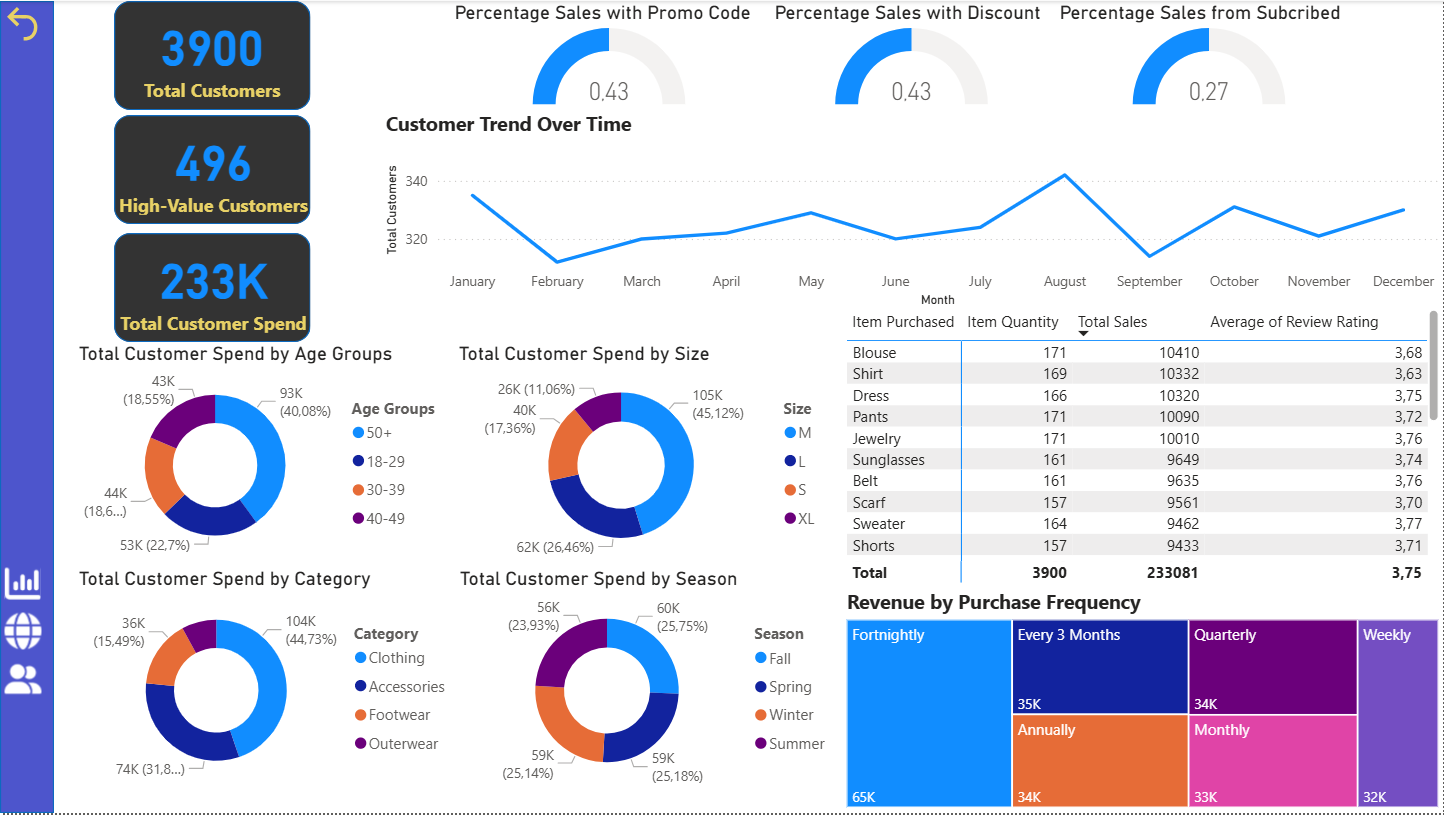

What the dashboard file says about the page in this screenshot:
{"tool":"powerbi","page":{"name":"Customer Detail","canvas":[1280,720],"ordinal":1},"visuals":[{"type":"actionButton","box":[0.2,496.7,47.8,40.1],"z":0,"group":"g1"},{"type":"lineChart","title":"Customer Trend Over Time","fields":{"Y":["Measure Table (DAX).Total Customers"],"Category":["Calendar.Date.Variation.Date Hierarchy.Year","Calendar.Date.Variation.Date Hierarchy.Quarter","Calendar.Date.Variation.Date Hierarchy.Month","Calendar.Date.Variation.Date Hierarchy.Day"]},"box":[336.9,96.7,943.4,179.1],"z":0},{"type":"actionButton","box":[0,538.6,47.9,40.8],"z":1000,"group":"g1"},{"type":"donutChart","fields":{"Category":["shopping_trends.Age Groups"],"Y":["Measure Table (DAX).Total Customer Spend"]},"box":[64.7,302.4,344,199.5],"z":1000},{"type":"donutChart","fields":{"Category":["shopping_trends.Category"],"Y":["Measure Table (DAX).Total Customer Spend"]},"box":[64.7,501.9,344,199.5],"z":2000},{"type":"gauge","fields":{"Y":["Measure Table (DAX).Percentage Sales with Discount"]},"box":[681.9,0,252.7,96.7],"z":3000},{"type":"actionButton","box":[0,581.2,47.9,40.8],"z":3000,"group":"g1"},{"type":"pivotTable","fields":{"Rows":["shopping_trends.Item Purchased"],"Values":["Measure Table (DAX).Quantity_of_items","Measure Table (DAX).Total Sales","Avg(shopping_trends.Review Rating)"]},"box":[745.7,268.7,534.7,251.8],"z":4000},{"type":"gauge","fields":{"Y":["Measure Table (DAX).Percentage Sales with Promo Code"]},"box":[398.1,0,283.7,96.7],"z":5000},{"type":"gauge","fields":{"Y":["Measure Table (DAX).Percentage Sales from Subcribed"]},"box":[934.6,0,274.9,96.7],"z":6000},{"type":"treemap","title":"Revenue by Purchase Frequency","fields":{"Group":["shopping_trends.Frequency of Purchases"],"Values":["Measure Table (DAX).Total Sales"]},"box":[745.7,520.5,534.7,199.5],"z":7000},{"type":"donutChart","fields":{"Y":["Measure Table (DAX).Total Customer Spend"],"Category":["shopping_trends.Size"]},"box":[401.7,302.4,344,199.5],"z":8000},{"type":"donutChart","fields":{"Y":["Measure Table (DAX).Total Customer Spend"],"Category":["shopping_trends.Season"]},"box":[402.2,502.2,343.3,200],"z":9000},{"type":"shape","title":"Menu","box":[0,0,47.9,720],"z":10000},{"type":"shape","box":[101.1,0,174.4,96.7],"z":11000},{"type":"card","fields":{"Values":["Measure Table (DAX).Total Customers"]},"box":[102.2,2.2,172.2,90],"z":12000},{"type":"shape","box":[101.1,101.1,174.4,96.7],"z":13000},{"type":"card","fields":{"Values":["Measure Table (DAX).High-Value Customers"]},"box":[98.9,104.4,180,90],"z":14000},{"type":"shape","box":[101.1,205.6,174.4,96.7],"z":15000},{"type":"card","fields":{"Values":["Measure Table (DAX).Total Customer Spend"]},"box":[98.9,208.9,180,90],"z":16000},{"type":"actionButton","box":[0,0,47.8,40],"z":17000},{"type":"group","id":"g1","title":"Navigation Buttons","box":[0,496.7,47.9,125.3],"z":18000}]}

Visuals, with their boxes on the page's 1280x720 design canvas (x1, y1, x2, y2). These are canvas units, not pixel positions in the 1444x815 screenshot, which may show the page scaled, cropped or inside an application window:
actionButton: [0,497,48,537]
"Customer Trend Over Time" lineChart: [337,97,1280,276]
actionButton: [0,539,48,579]
donutChart - shopping_trends.Age Groups x Measure Table (DAX).Total Customer Spend: [65,302,409,502]
donutChart - shopping_trends.Category x Measure Table (DAX).Total Customer Spend: [65,502,409,701]
gauge - Measure Table (DAX).Percentage Sales with Discount: [682,0,935,97]
actionButton: [0,581,48,622]
pivotTable - shopping_trends.Item Purchased x Measure Table (DAX).Quantity_of_items: [746,269,1280,520]
gauge - Measure Table (DAX).Percentage Sales with Promo Code: [398,0,682,97]
gauge - Measure Table (DAX).Percentage Sales from Subcribed: [935,0,1210,97]
"Revenue by Purchase Frequency" treemap: [746,520,1280,720]
donutChart - Measure Table (DAX).Total Customer Spend x shopping_trends.Size: [402,302,746,502]
donutChart - Measure Table (DAX).Total Customer Spend x shopping_trends.Season: [402,502,746,702]
"Menu" shape: [0,0,48,720]
shape: [101,0,276,97]
card - Measure Table (DAX).Total Customers: [102,2,274,92]
shape: [101,101,276,198]
card - Measure Table (DAX).High-Value Customers: [99,104,279,194]
shape: [101,206,276,302]
card - Measure Table (DAX).Total Customer Spend: [99,209,279,299]
actionButton: [0,0,48,40]
"Navigation Buttons" group: [0,497,48,622]
